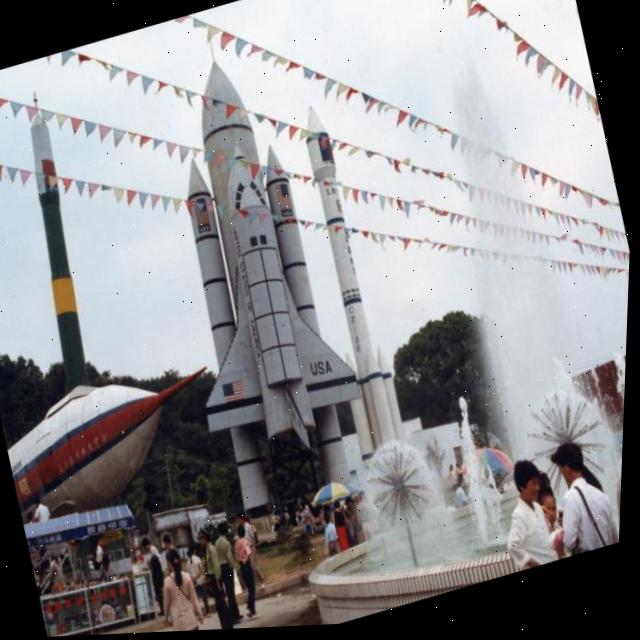missile: (120, 34, 405, 559), (282, 99, 429, 469), (0, 80, 118, 411)
